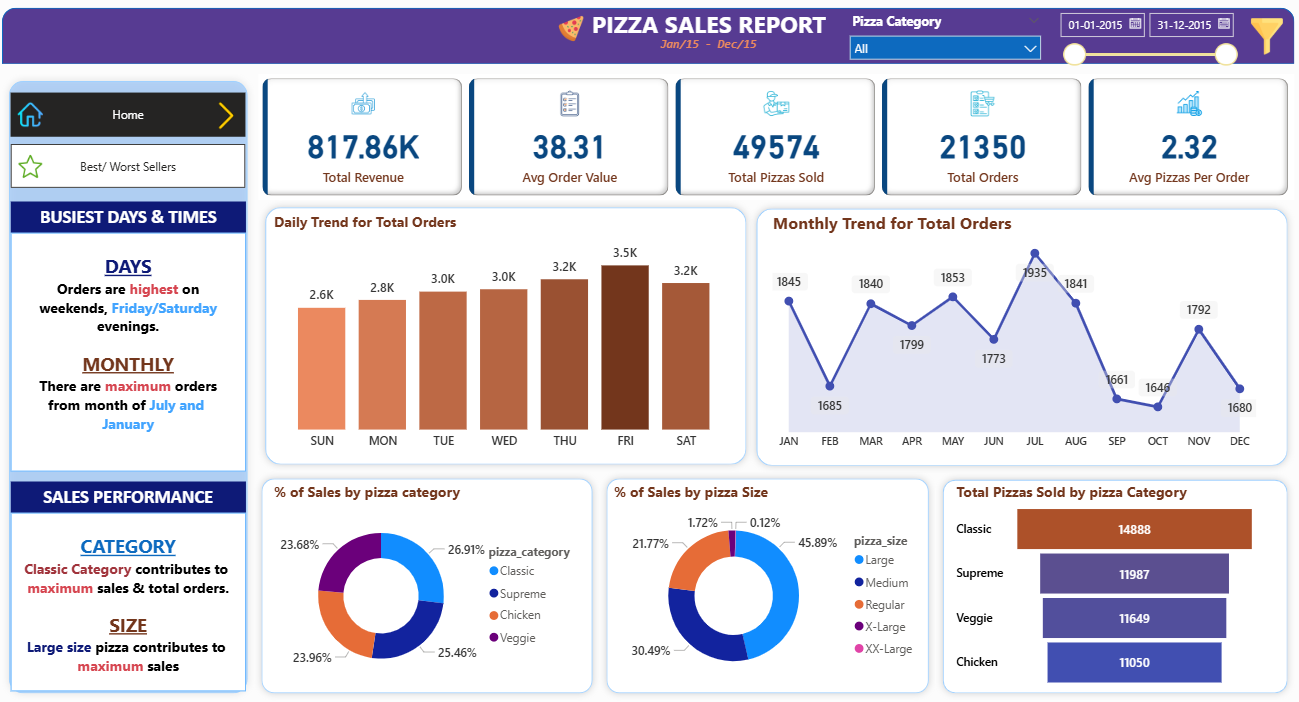

Layout of this report page (visuals, bound fields, positions):
{"tool":"powerbi","page":{"name":"Home","canvas":[1500,820],"ordinal":0},"visuals":[{"type":"shape","box":[11.4,91.4,288.6,715.7],"z":0},{"type":"cardVisual","fields":{"Data":["pizza_sales_excel_file.Total Revenue","pizza_sales_excel_file.Avg Order Value","pizza_sales_excel_file.Total Pizzas Sold","pizza_sales_excel_file.Total Orders","pizza_sales_excel_file.Avg Pizzas Per Order"]},"box":[304.3,91.4,1184.3,144.3],"z":1000},{"type":"shape","box":[11.4,15.7,1477.1,64.3],"z":2000},{"type":"textbox","box":[668,11,302,54],"z":3000},{"type":"textbox","box":[709,43,220,31],"z":4000},{"type":"image","box":[641,20,40,39],"z":5000},{"type":"shape","box":[304.3,235.7,565.7,310],"z":6000},{"type":"columnChart","title":"Daily Trend for Total Orders","fields":{"Category":["pizza_sales_excel_file.Order Day"],"Y":["pizza_sales_excel_file.Total Orders"]},"box":[317.1,248.6,537.1,281.4],"z":7000},{"type":"shape","box":[865.7,237.1,622.9,310],"z":8000},{"type":"areaChart","title":"Monthly Trend for Total Orders","fields":{"Category":["pizza_sales_excel_file.Order Month"],"Y":["pizza_sales_excel_file.Total Orders"]},"box":[887.1,248.6,562.9,281.4],"z":9000},{"type":"shape","box":[300,545.7,394.3,261.4],"z":10000},{"type":"shape","box":[694.3,545.7,384.3,261.4],"z":11000},{"type":"shape","box":[1078.6,547.1,410,260],"z":12000},{"type":"donutChart","title":"% of Sales by pizza category","fields":{"Category":["pizza_sales_excel_file.pizza_category"],"Y":["pizza_sales_excel_file.Total Revenue"]},"box":[317.1,557.1,364.3,240],"z":13000},{"type":"donutChart","title":"% of Sales by pizza Size","fields":{"Y":["pizza_sales_excel_file.Total Revenue"],"Category":["pizza_sales_excel_file.pizza_size"]},"box":[705.7,557.1,364.3,240],"z":14000},{"type":"funnel","title":"Total Pizzas Sold by pizza Category","fields":{"Category":["pizza_sales_excel_file.pizza_category"],"Y":["pizza_sales_excel_file.Total Pizzas Sold"]},"box":[1097.1,557.1,352.9,240],"z":15000},{"type":"textbox","box":[21.4,237.1,268.6,35.7],"z":16000},{"type":"textbox","box":[21.4,272.9,268.6,272.9],"z":17000},{"type":"textbox","box":[21.4,557.1,268.6,35.7],"z":18000},{"type":"textbox","box":[21.4,592.9,268.6,204.3],"z":19000},{"type":"slicer","title":"Daily Trend for Total Orders","fields":{"Values":["pizza_sales_excel_file.pizza_category"]},"box":[970,16,239,64],"z":20000},{"type":"slicer","title":"Daily Trend for Total Orders","fields":{"Values":["pizza_sales_excel_file.order_date"]},"box":[1208.6,11.4,222.9,80],"z":21000},{"type":"pageNavigator","box":[21.1,113.3,268.9,50],"z":22000},{"type":"pageNavigator","box":[21.1,171.1,268.9,50],"z":23000},{"type":"image","box":[245.6,118.9,44.4,41.1],"z":24000},{"type":"image","box":[21.1,118.9,44.4,38.9],"z":25000},{"type":"image","box":[21.1,178.9,44.4,36.7],"z":26000},{"type":"image","box":[1431.4,22.9,51.4,51.4],"z":26001}]}

Visuals, with their boxes in screenshot pixels (x1, y1, x2, y2), scaled from the page's 1500x820 canvas onto the 1299x702 screenshot:
shape: crop(10, 78, 260, 691)
cardVisual - pizza_sales_excel_file.Total Revenue x pizza_sales_excel_file.Avg Order Value: crop(264, 78, 1289, 202)
shape: crop(10, 13, 1289, 68)
textbox: crop(578, 9, 840, 56)
textbox: crop(614, 37, 805, 63)
image: crop(555, 17, 590, 51)
shape: crop(264, 202, 753, 467)
"Daily Trend for Total Orders" columnChart: crop(275, 213, 740, 454)
shape: crop(750, 203, 1289, 468)
"Monthly Trend for Total Orders" areaChart: crop(768, 213, 1256, 454)
shape: crop(260, 467, 601, 691)
shape: crop(601, 467, 934, 691)
shape: crop(934, 468, 1289, 691)
"% of Sales by pizza category" donutChart: crop(275, 477, 590, 682)
"% of Sales by pizza Size" donutChart: crop(611, 477, 927, 682)
"Total Pizzas Sold by pizza Category" funnel: crop(950, 477, 1256, 682)
textbox: crop(19, 203, 251, 234)
textbox: crop(19, 234, 251, 467)
textbox: crop(19, 477, 251, 507)
textbox: crop(19, 508, 251, 682)
"Daily Trend for Total Orders" slicer: crop(840, 14, 1047, 68)
"Daily Trend for Total Orders" slicer: crop(1047, 10, 1240, 78)
pageNavigator: crop(18, 97, 251, 140)
pageNavigator: crop(18, 146, 251, 189)
image: crop(213, 102, 251, 137)
image: crop(18, 102, 57, 135)
image: crop(18, 153, 57, 185)
image: crop(1240, 20, 1284, 64)
